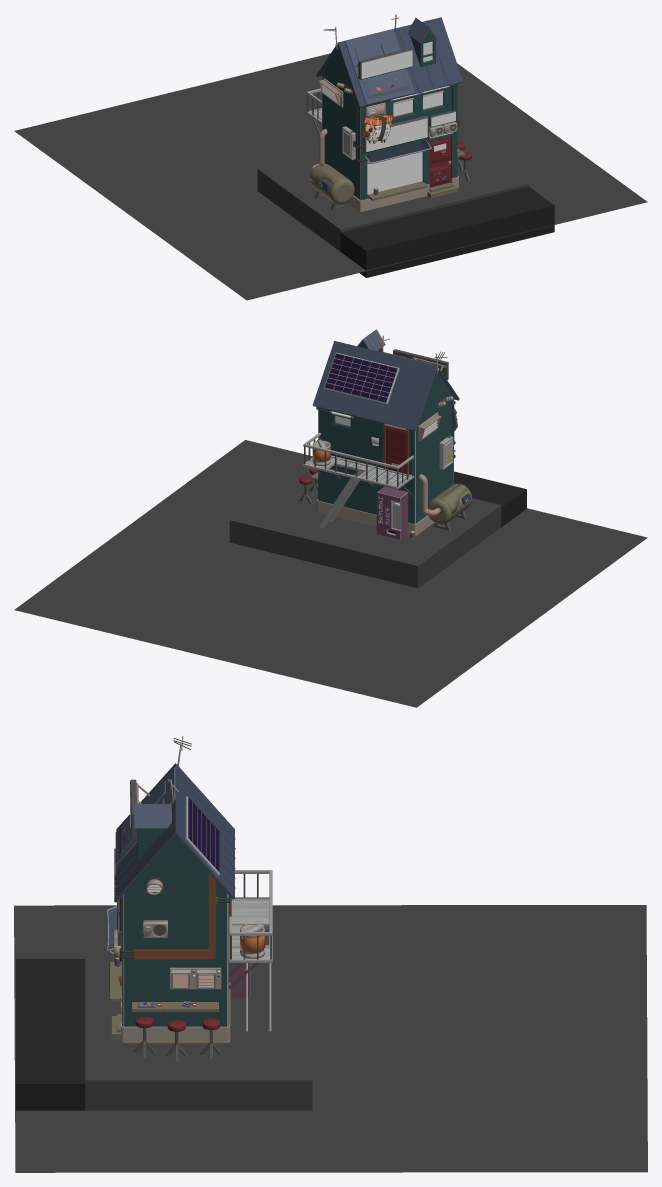
File: building4.fbx
The picture shows the model from 3 angles, top to bottom: view 1: azimuth 30°, elevation 25°; view 2: azimuth 150°, elevation 25°; view 3: azimuth 270°, elevation 25°; orthographic projection. The views are drawn at different scales.
Visible parts, largest first — view 1: Plane.005; view 2: Plane.005; view 3: Plane.005.
Part boxes in pixels (<box>): Plane.005: <box>14,14,647,300</box>; Plane.005: <box>14,329,647,707</box>; Plane.005: <box>14,736,647,1172</box>.
Bounding box in the file's own units: 3007 × 1433 × 3007.
41 materials, 3 textured.
